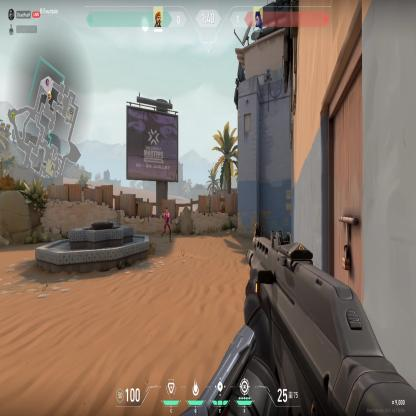enemy: (161, 206, 173, 244)
